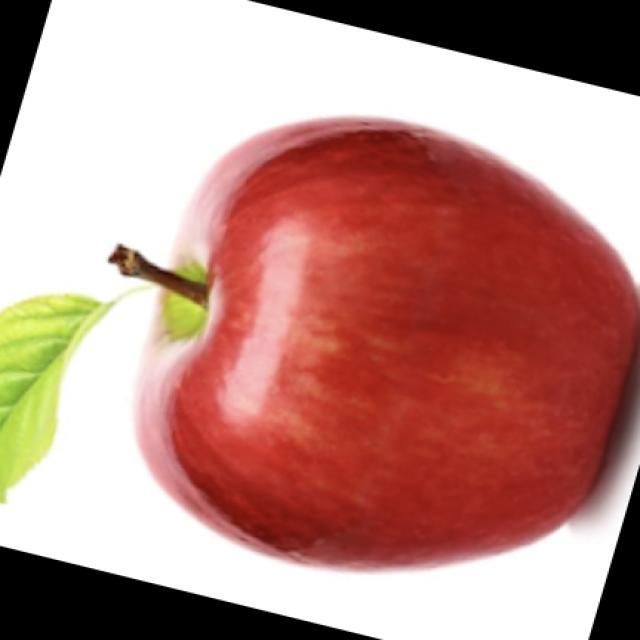Fresh Apple: (135, 108, 635, 602)
